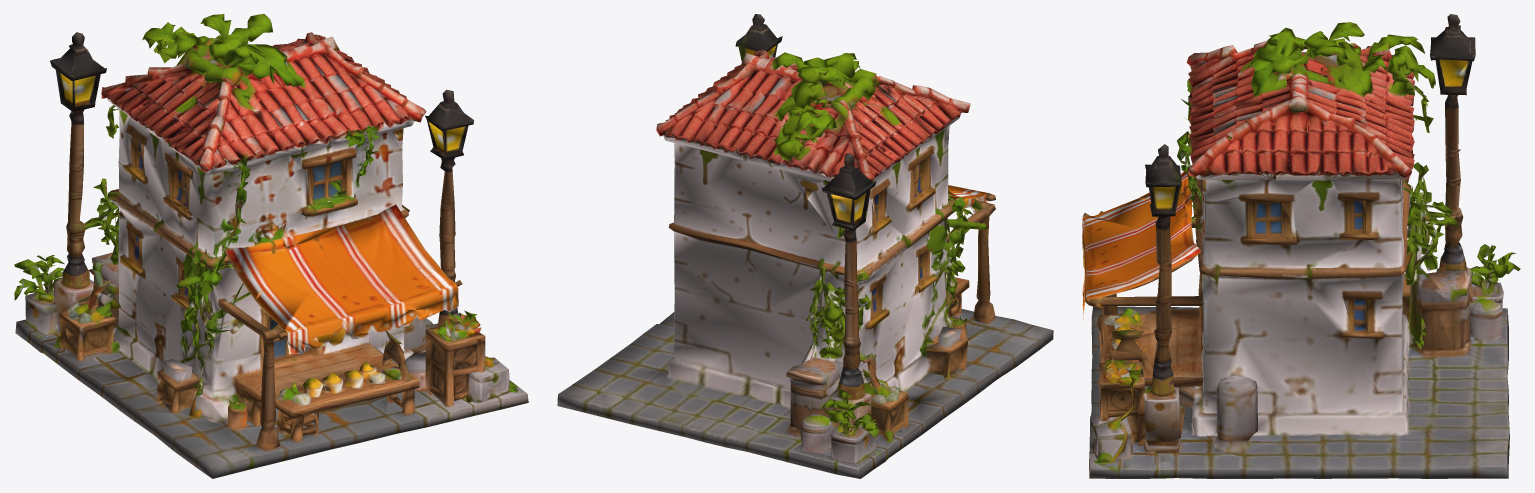
Rendered from Building_1.fbx.
3 renders of one model, left to right at view 1: azimuth 30°, elevation 25°; view 2: azimuth 150°, elevation 25°; view 3: azimuth 270°, elevation 25°, orthographic. The views are drawn at different scales.
Visible parts, largest first — view 1: output_unwrapped; view 2: output_unwrapped; view 3: output_unwrapped.
Boxes of the visible parts, left/top/right/bottom form: output_unwrapped: left=14, top=14, right=528, bottom=478; output_unwrapped: left=557, top=14, right=1053, bottom=478; output_unwrapped: left=1082, top=14, right=1520, bottom=478.
Size of the model in its own units: 99 by 100 by 111.
Materials: 1 (1 with a texture image).
